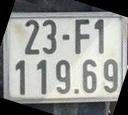-: (62, 35, 69, 40)
.: (75, 89, 79, 93)
1: (95, 19, 104, 54), (16, 60, 25, 95), (37, 60, 46, 95)
2: (25, 20, 39, 54)
3: (42, 20, 57, 54)
6: (83, 60, 97, 93)
9: (56, 60, 70, 94), (104, 59, 118, 93)
F: (75, 20, 90, 54)
